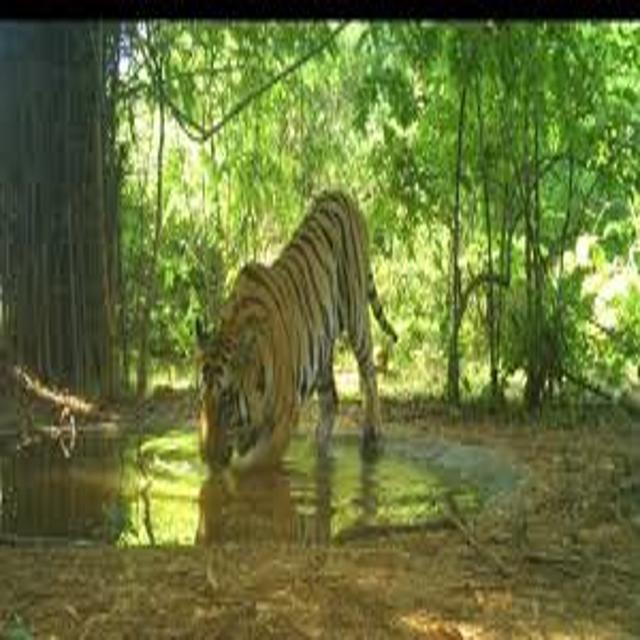tiger: (146, 162, 435, 557)
